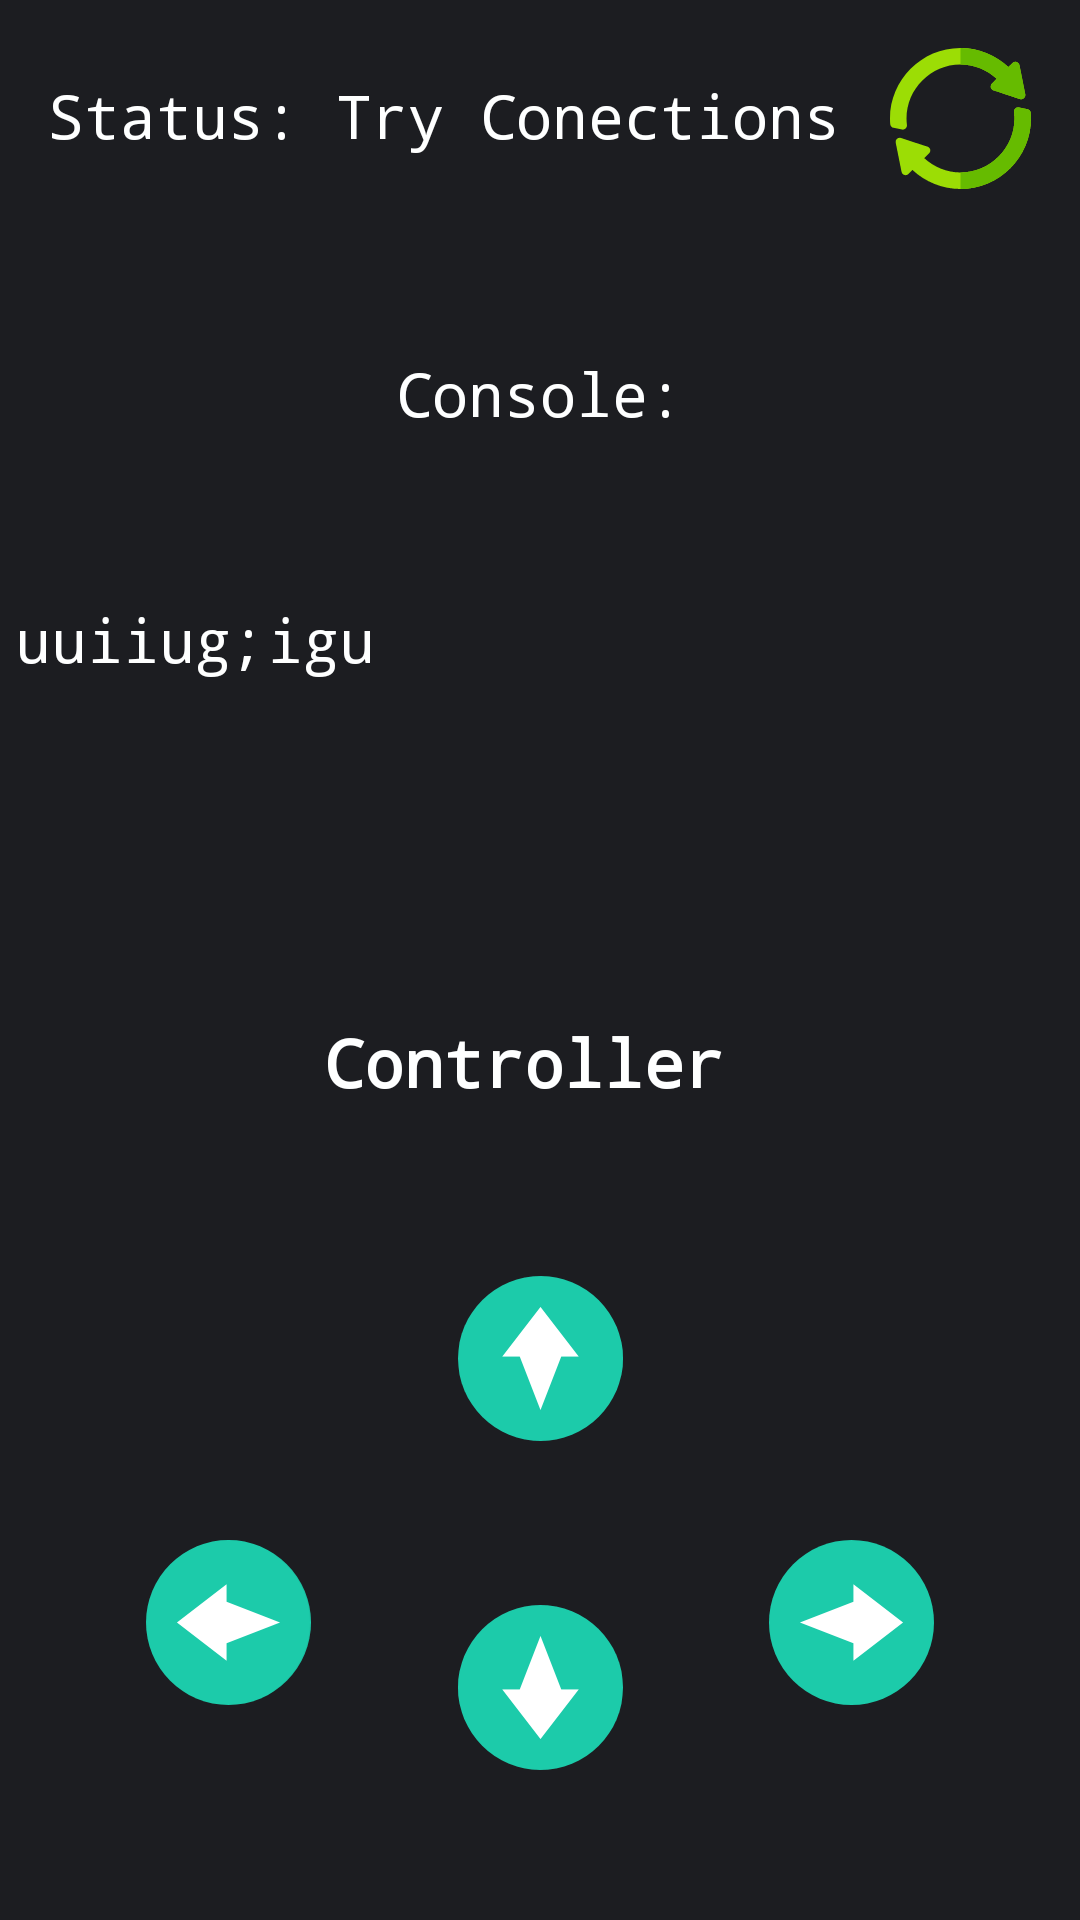

Point at icon controls on the screen. Image size 1080x1920, points as point (x, y).
refresh: point (960, 118)
